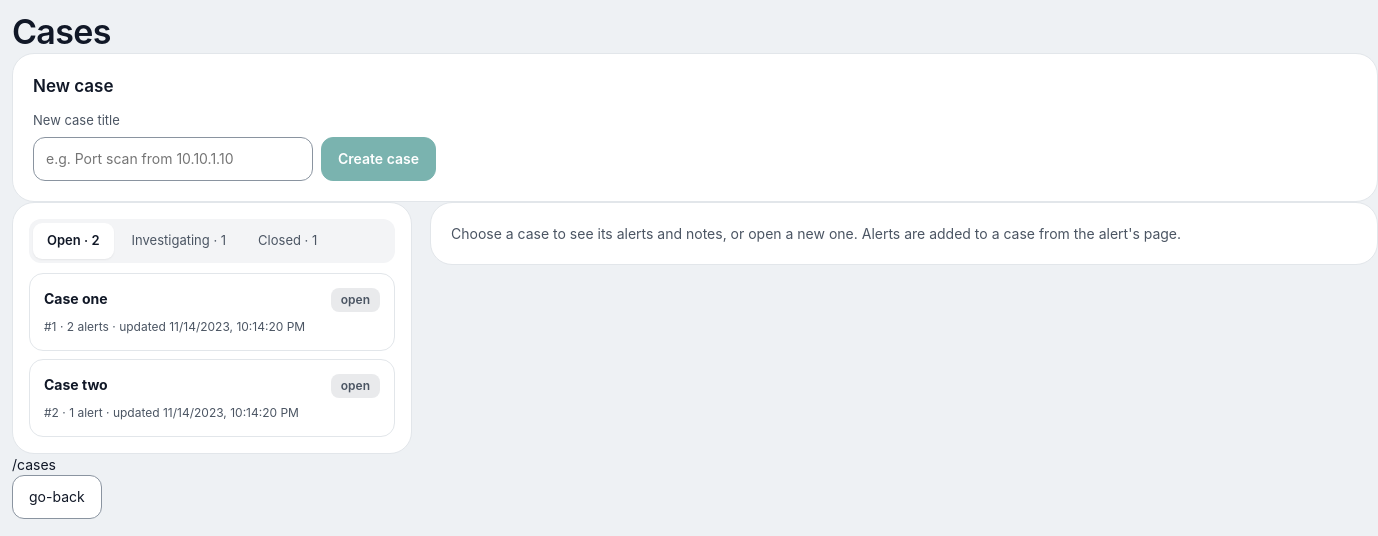
Test case: case list › tabs show their own list without refetching
This screenshot has width=1378, height=536.
What coordinates should you click on to do the following:
click the button "Investigating · 1"
I would click on:
 (179, 241)
Its box is [118,223,240,259].
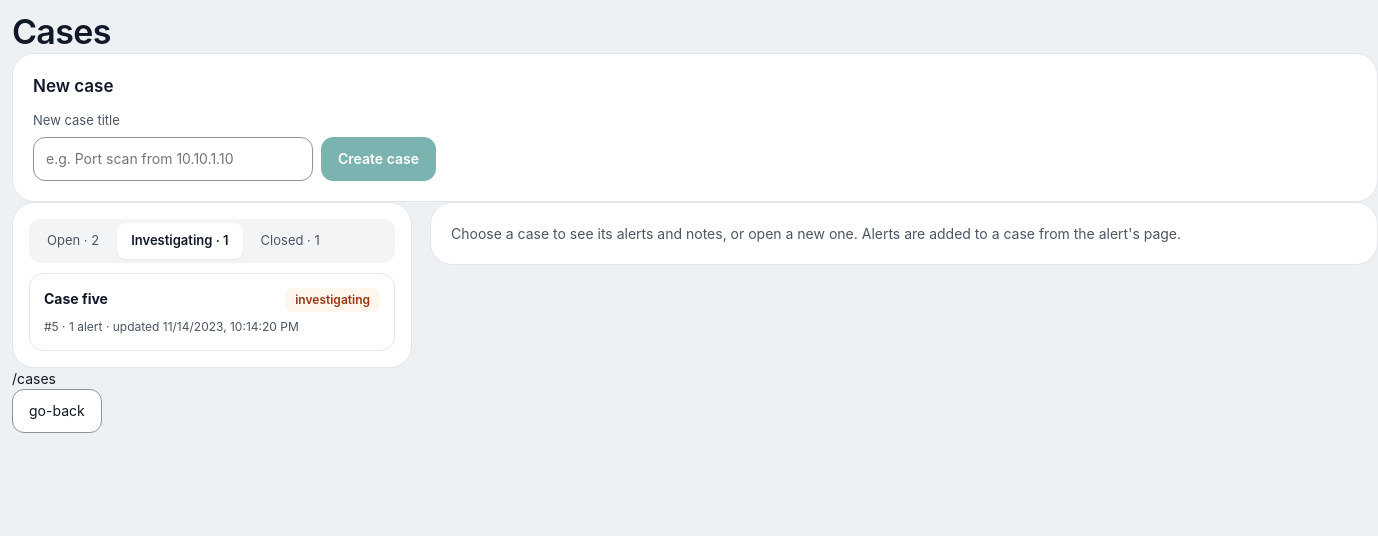
Expected: the text "Case five" is shown, [44,288,108,309]
Expected: the link "Case one" is gone
What coordinates should you click on to do the following:
click the button "Closed · 1"
I would click on:
 (290, 241)
Its box is [247,223,334,259].
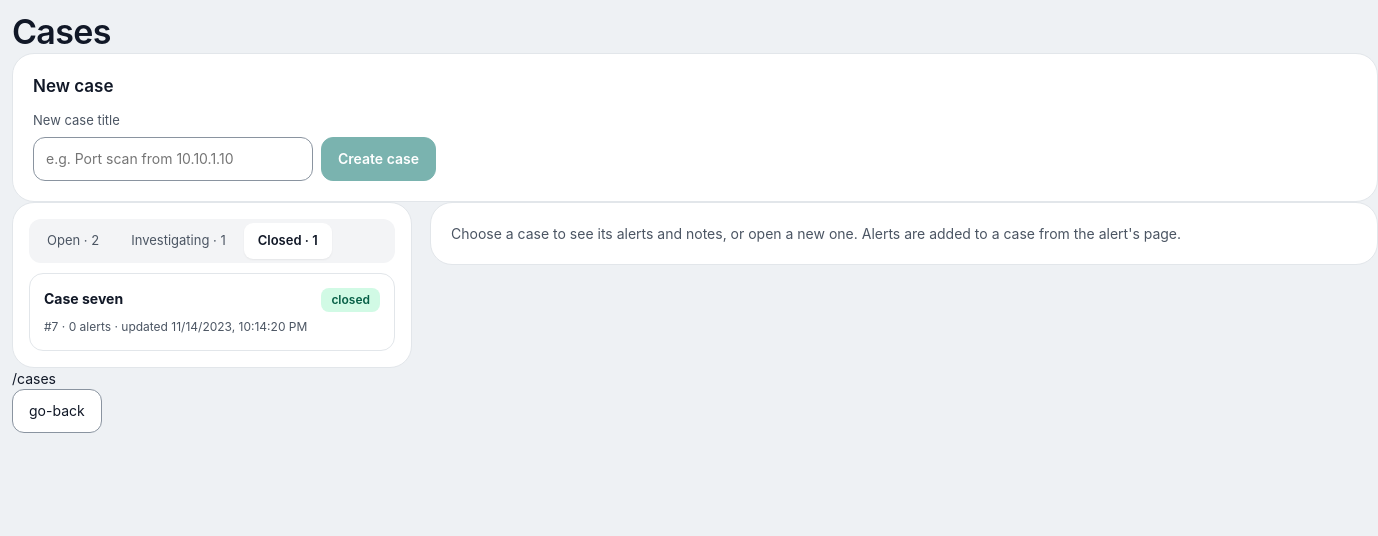
Expected: the text "Case seven" is shown, [44,288,123,309]
